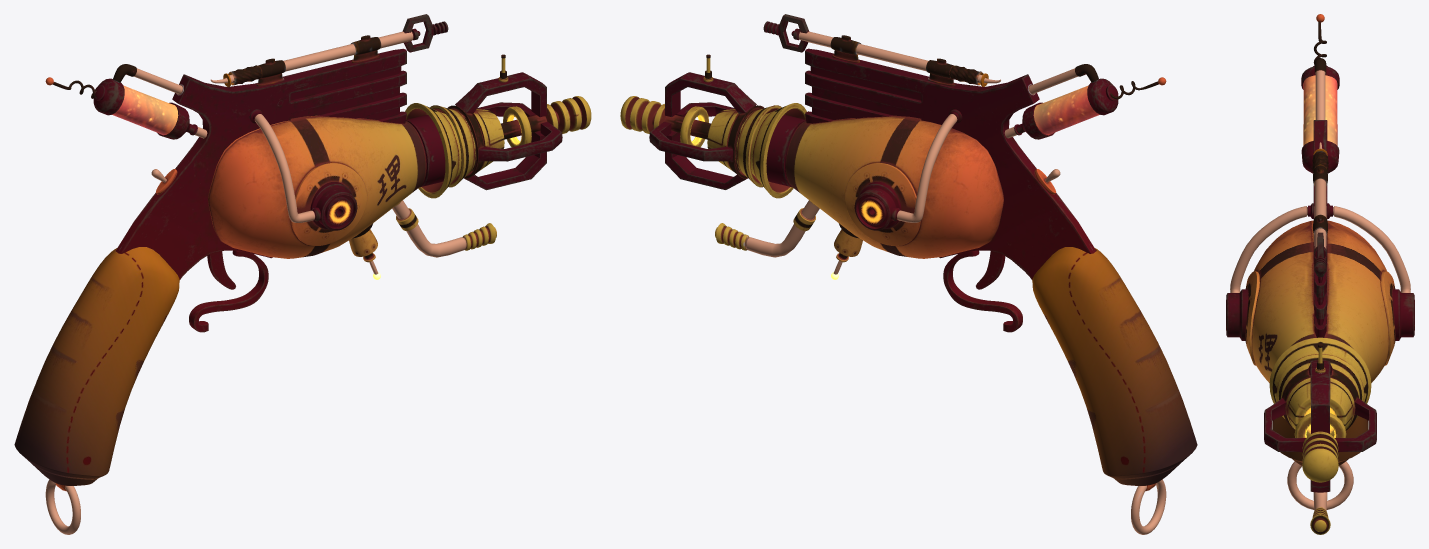
File: retro_ray-gun.glb
3 views of the same model, side by side, from view 1: azimuth 30°, elevation 25°; view 2: azimuth 150°, elevation 25°; view 3: azimuth 270°, elevation 25° (orthographic). The views are drawn at different scales.
Parts seen in each view (by area): view 1: g (×16); view 2: g (×16); view 3: g (×15).
Part boxes in pixels (bbox=[...]): g (×16): bbox=[14, 14, 591, 534]; g (×16): bbox=[620, 14, 1197, 534]; g (×15): bbox=[1226, 14, 1414, 534].
Bounding box in the file's own units: 0.5204 × 0.4033 × 0.1411.
1 material, 1 textured.
